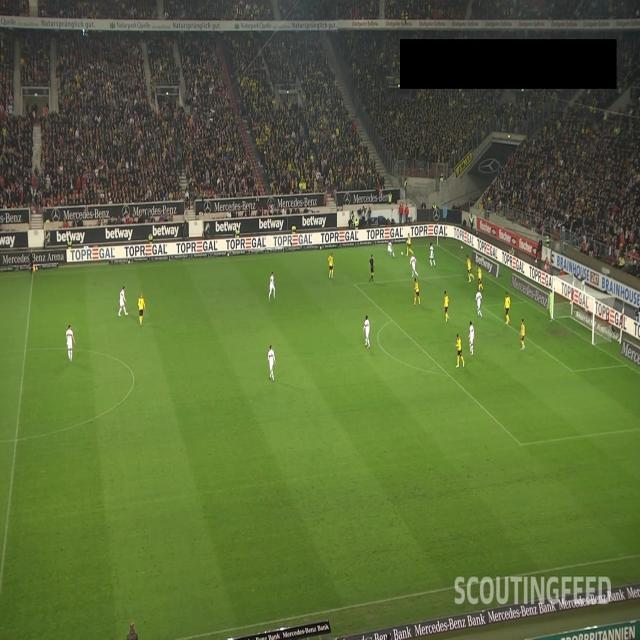ball: (401, 250, 404, 256)
